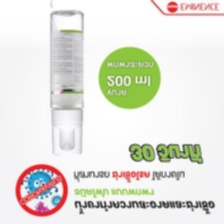cleaning_solution: (45, 9, 87, 156)
